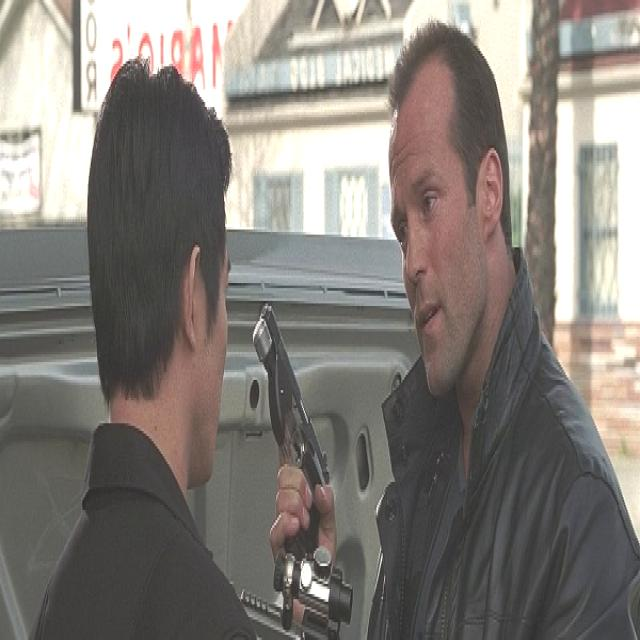pistol: (250, 286, 356, 638)
